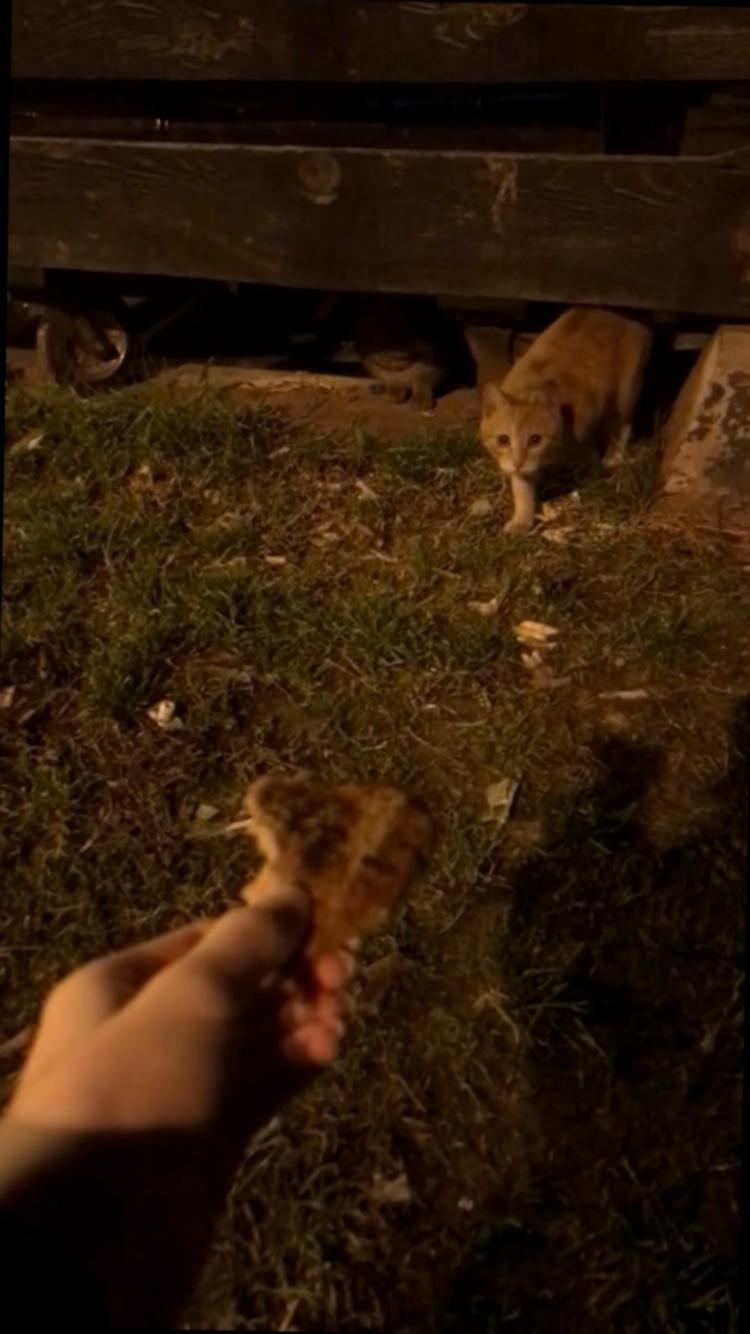macka: (478, 301, 650, 534)
